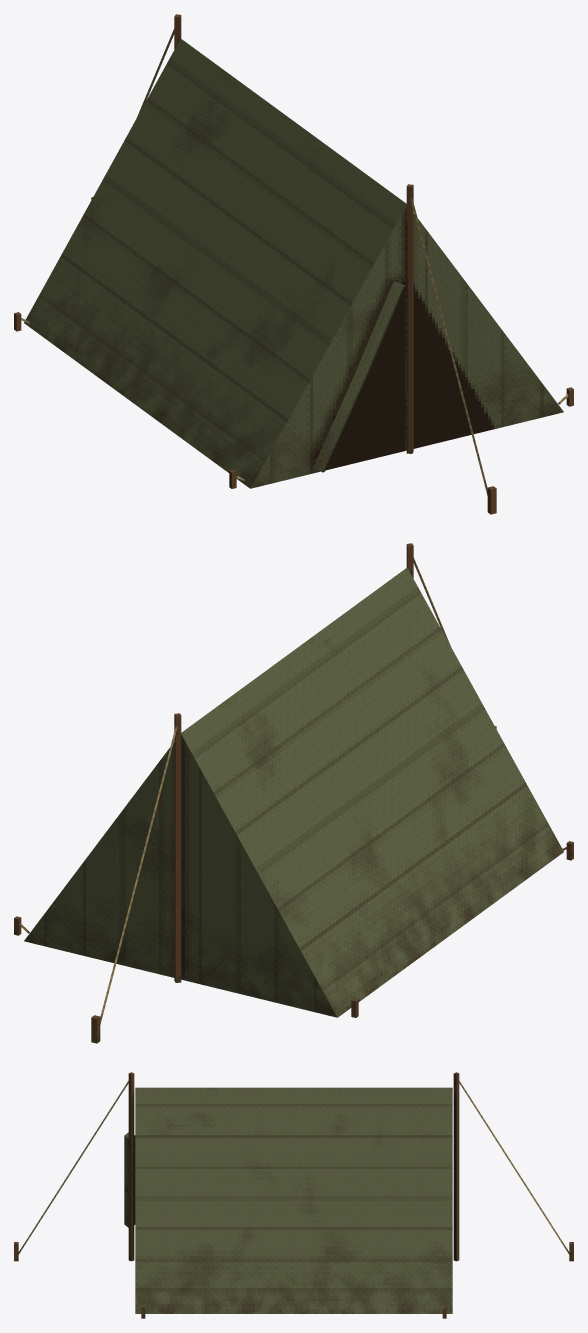
Rendered from Tent_01.glb.
The picture shows the model from 3 angles, top to bottom: view 1: azimuth 30°, elevation 25°; view 2: azimuth 150°, elevation 25°; view 3: azimuth 270°, elevation 25°; orthographic projection. The views are drawn at different scales.
Parts seen in each view (by area): view 1: Tent_01; view 2: Tent_01; view 3: Tent_01.
Boxes of the visible parts, bbox=[...] form: Tent_01: bbox=[14, 14, 573, 514]; Tent_01: bbox=[14, 543, 573, 1043]; Tent_01: bbox=[14, 1072, 573, 1318].
Bounding box in the file's own units: 1.74 × 1.3 × 3.53.
Materials: 1 (1 with a texture image).
